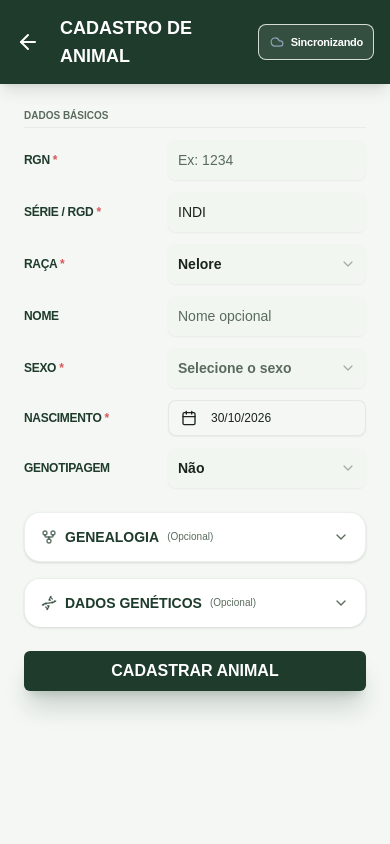
Test: CadastroAnimalPage — Item 7 › deve exibir os campos de dados genéticos ao abrir o accordion
The image size is (390, 844).
Click the text "Dados Genéticos" at (133, 603), box [65, 593, 202, 613]
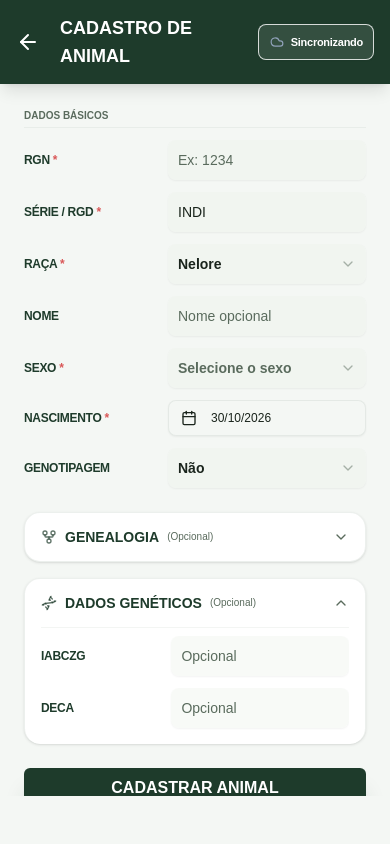
Result: the field labelled "iABCZg" is shown at [171, 636, 349, 676]
Result: the field labelled "DECA" is shown at [171, 688, 349, 728]
